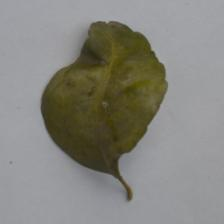greening: (108, 29, 168, 94)
